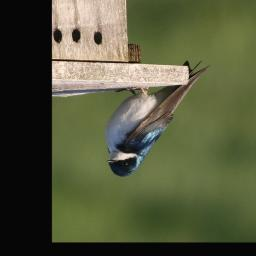Swallow: (103, 54, 211, 178)
